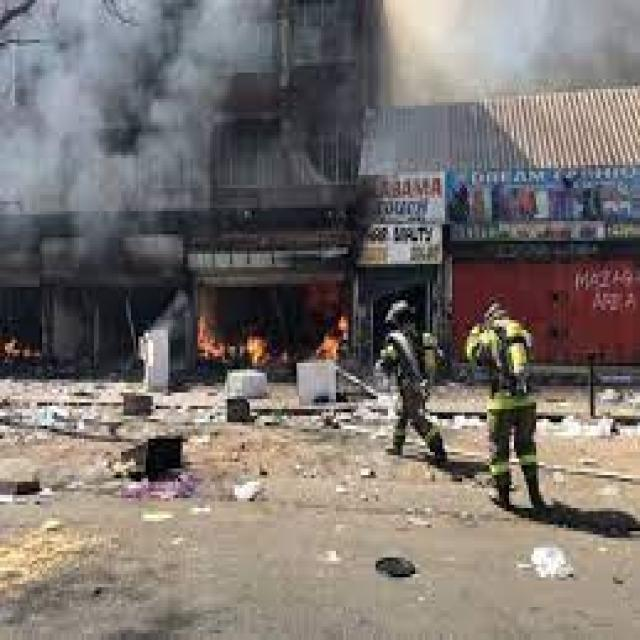fire: (316, 316, 348, 360), (197, 315, 225, 361)
